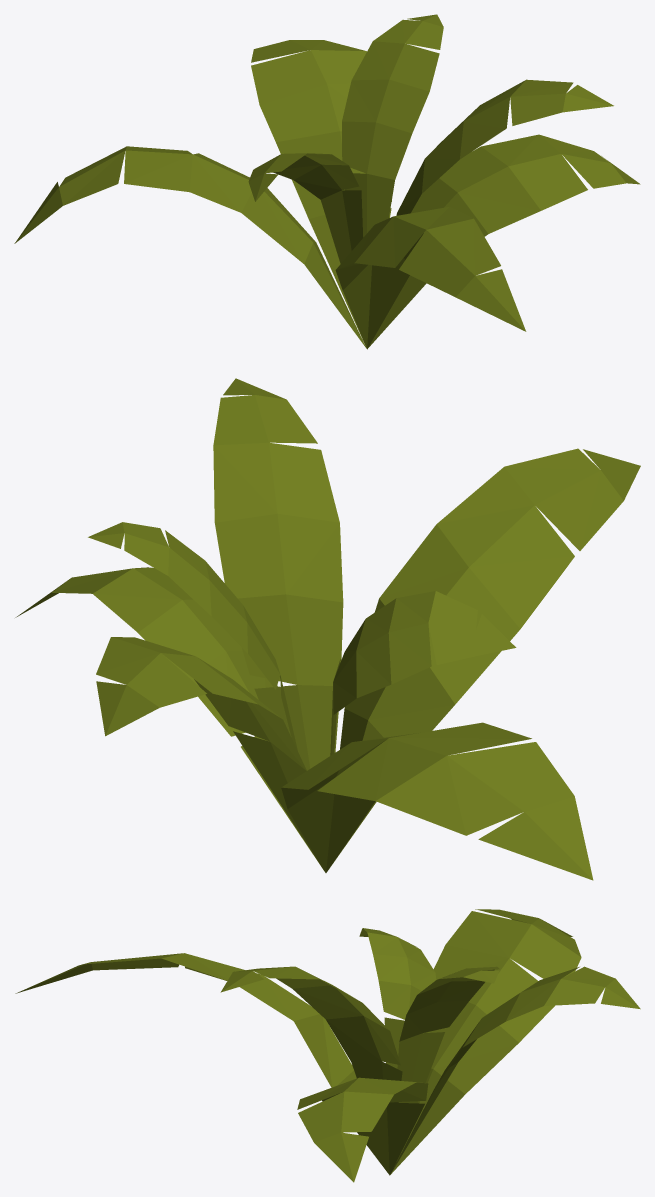
File: Plant_19.fbx
3 renders of one model, top to bottom at view 1: azimuth 30°, elevation 25°; view 2: azimuth 150°, elevation 25°; view 3: azimuth 270°, elevation 25°, orthographic. The views are drawn at different scales.
Parts seen in each view (by area): view 1: Plant_19; view 2: Plant_19; view 3: Plant_19.
Boxes of the visible parts, bbox=[...] form: Plant_19: bbox=[14, 14, 640, 349]; Plant_19: bbox=[15, 378, 640, 880]; Plant_19: bbox=[15, 909, 640, 1182].
Size of the model in its own units: 0.6502 by 0.3249 by 0.701.
